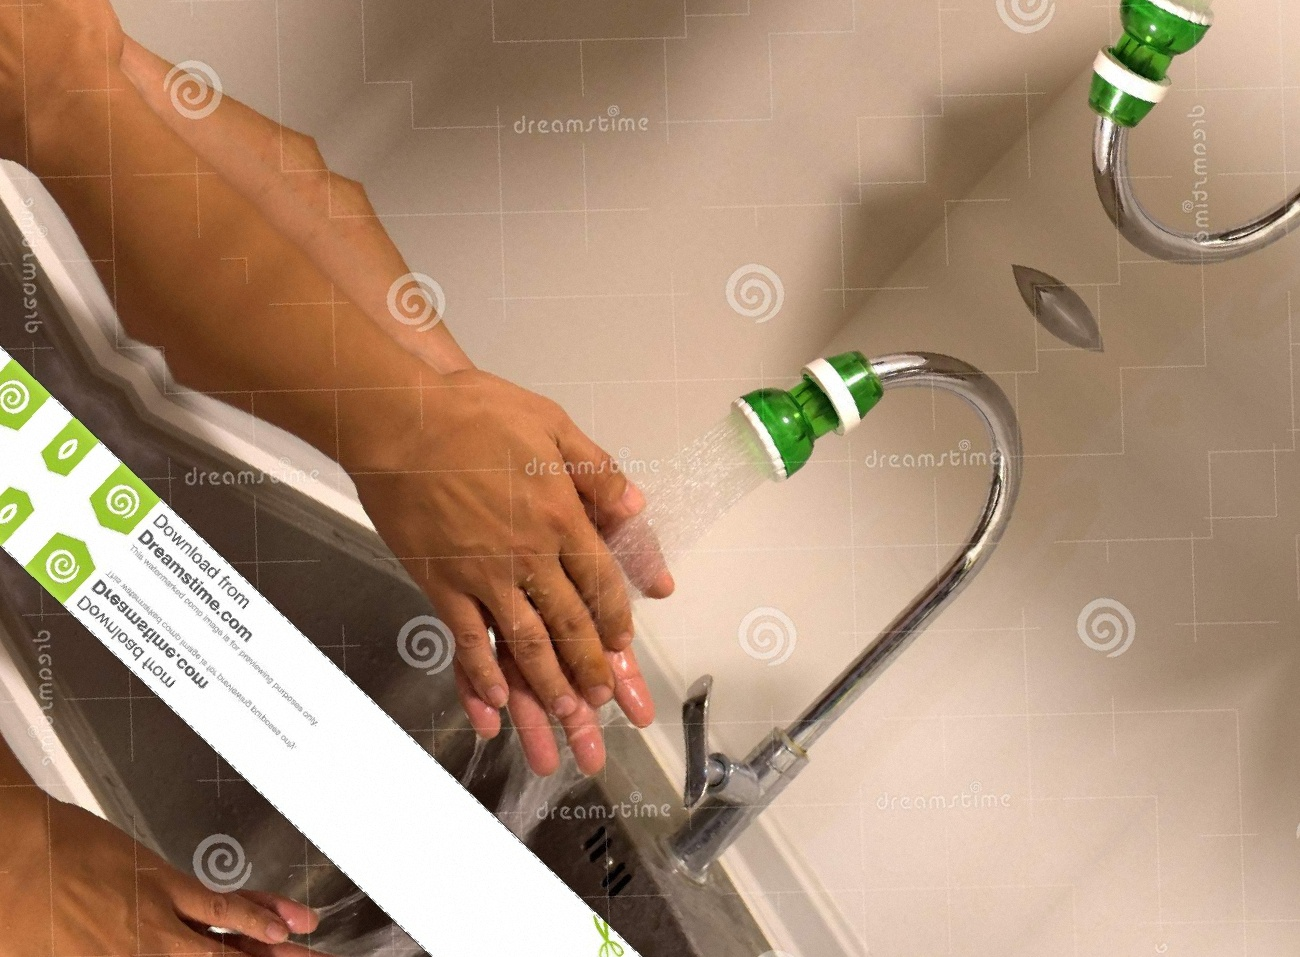washing hand: (304, 134, 1098, 940)
